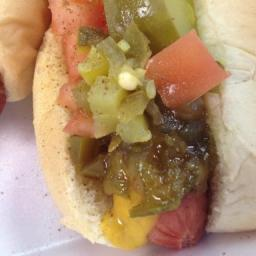hotdog: (146, 190, 214, 254)
